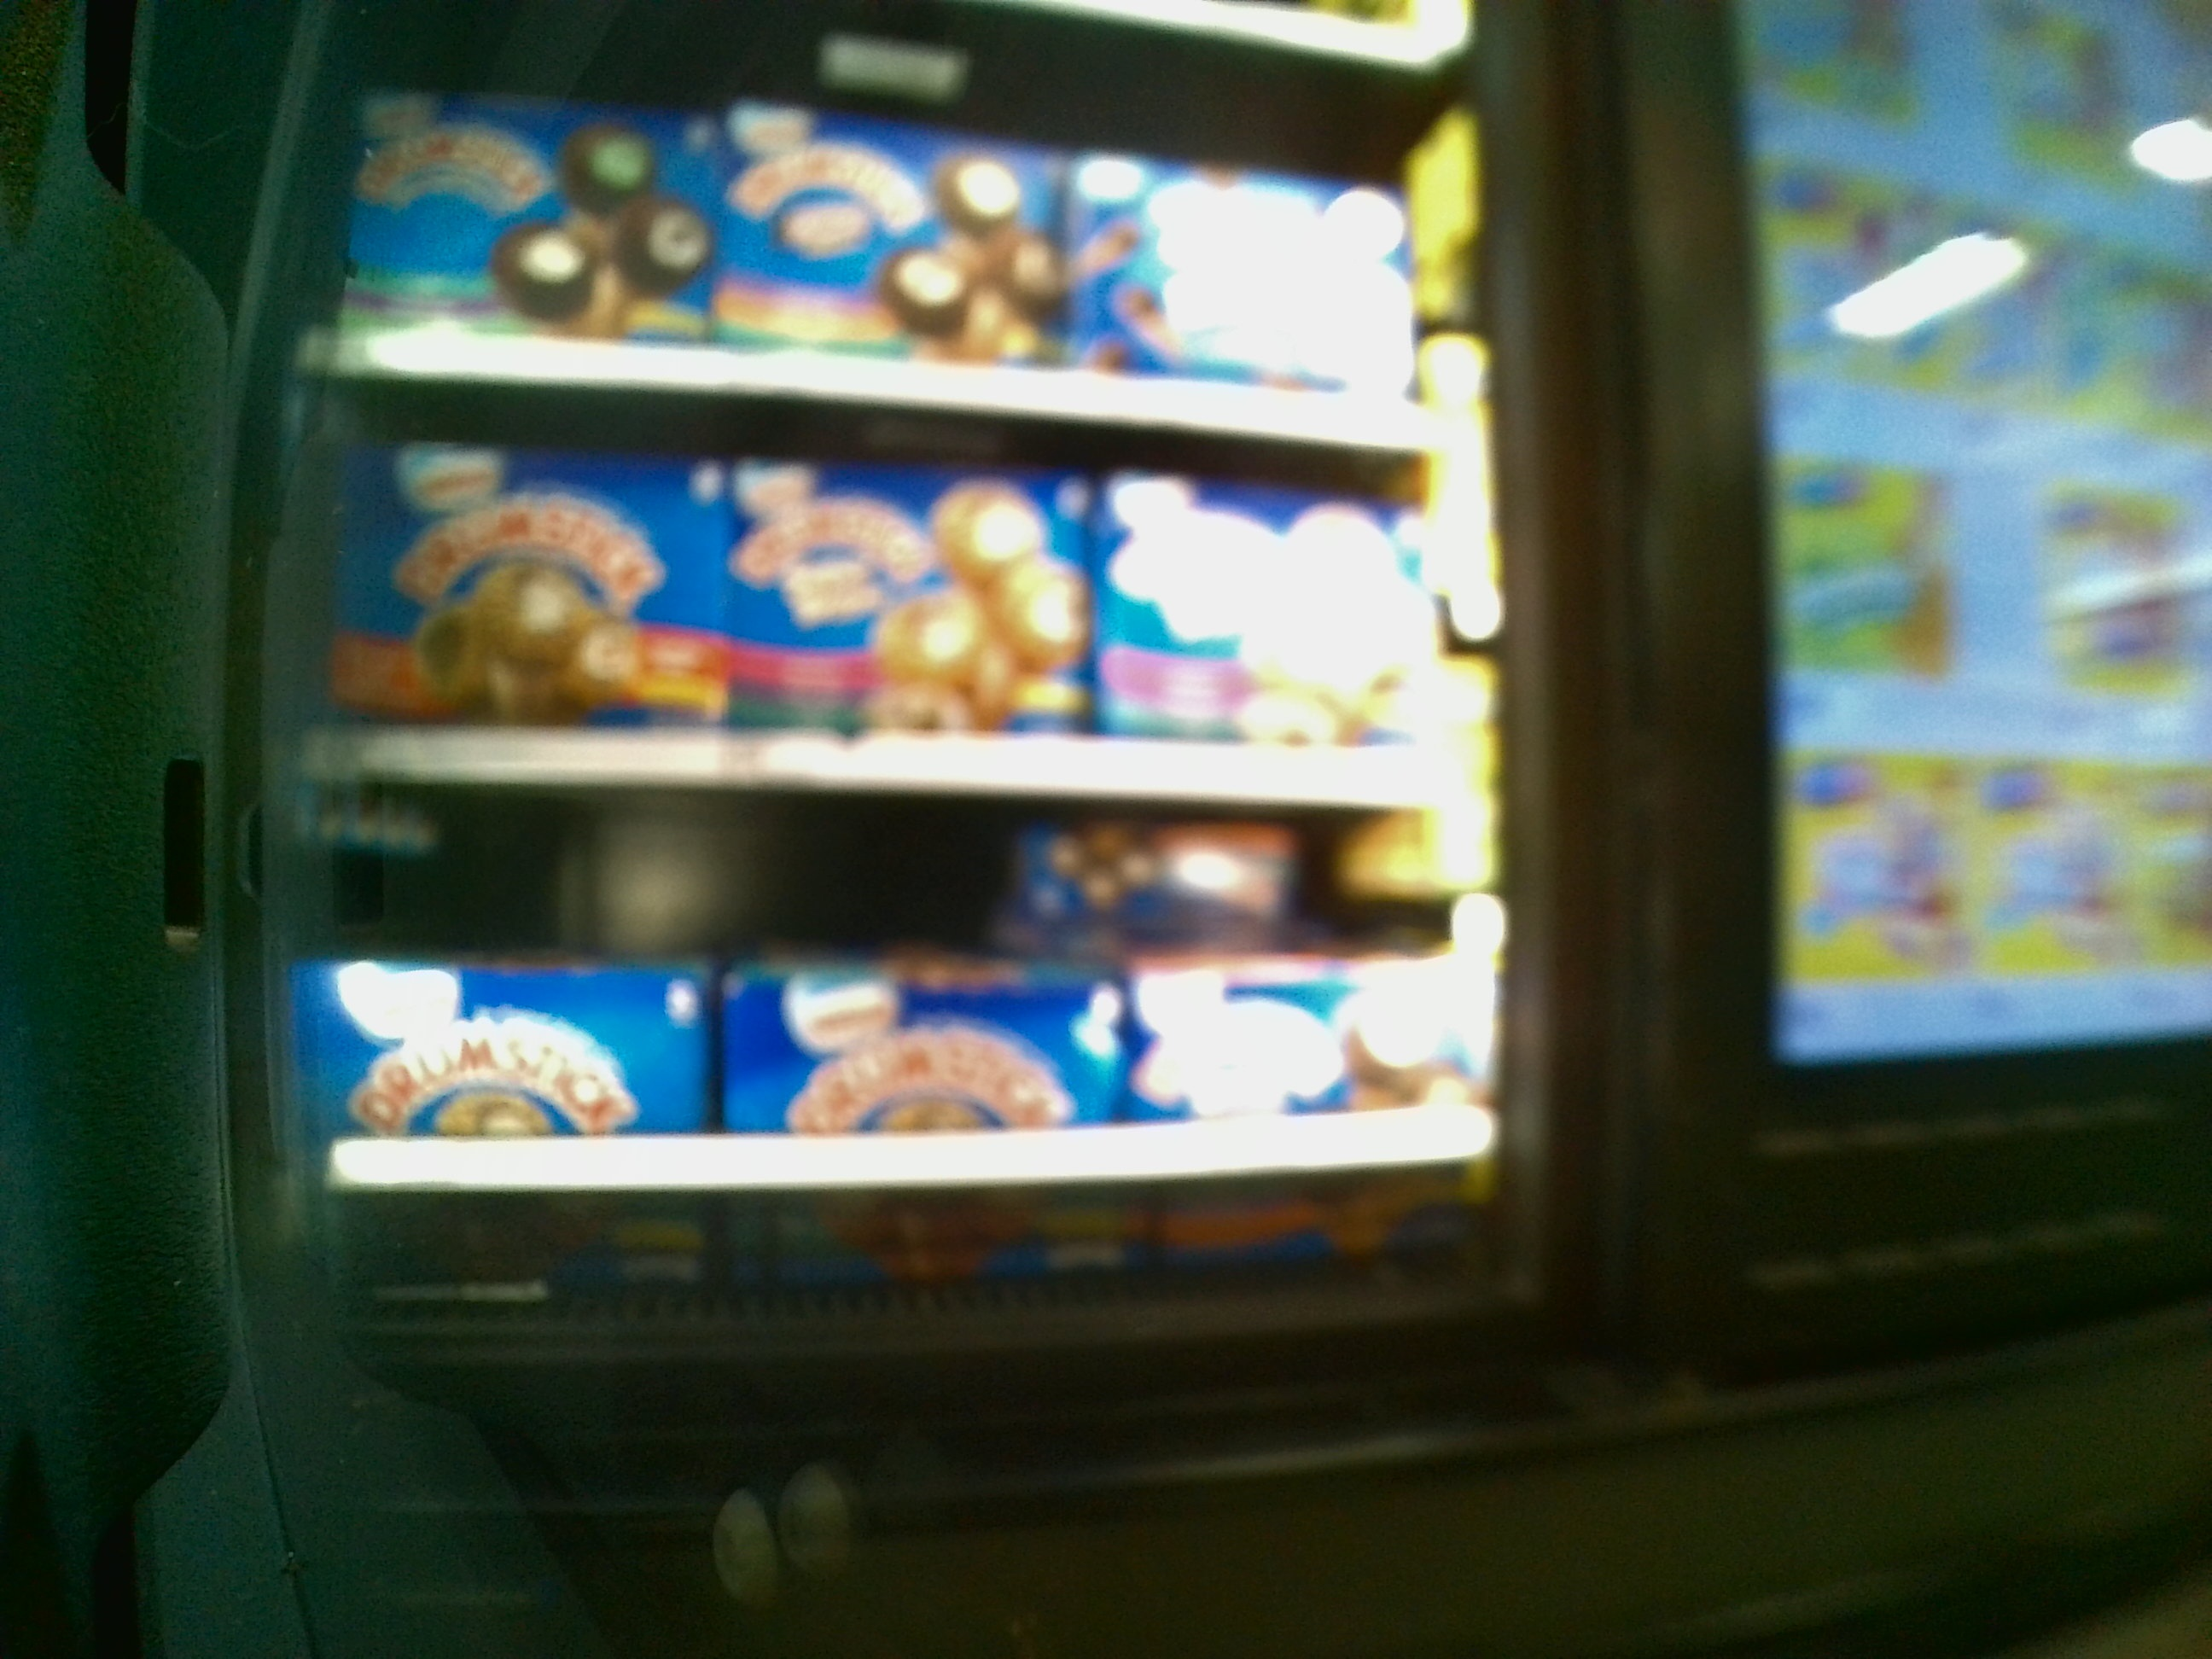shelf: (324, 786, 1480, 1270), (310, 411, 1456, 796)
